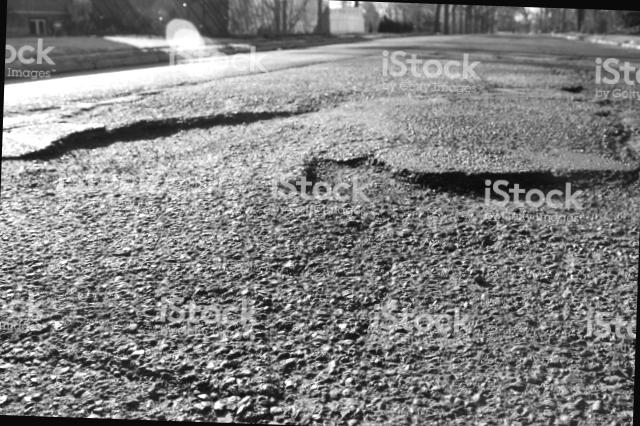Pothole: (293, 107, 640, 321), (11, 90, 304, 201)
